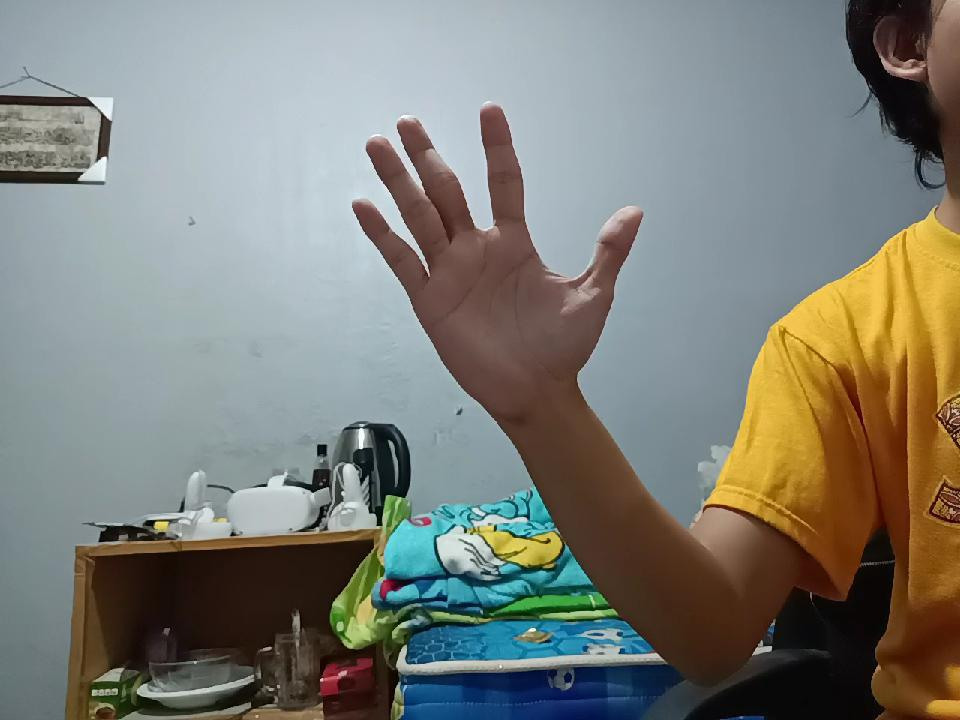paper: (354, 93, 636, 406)
